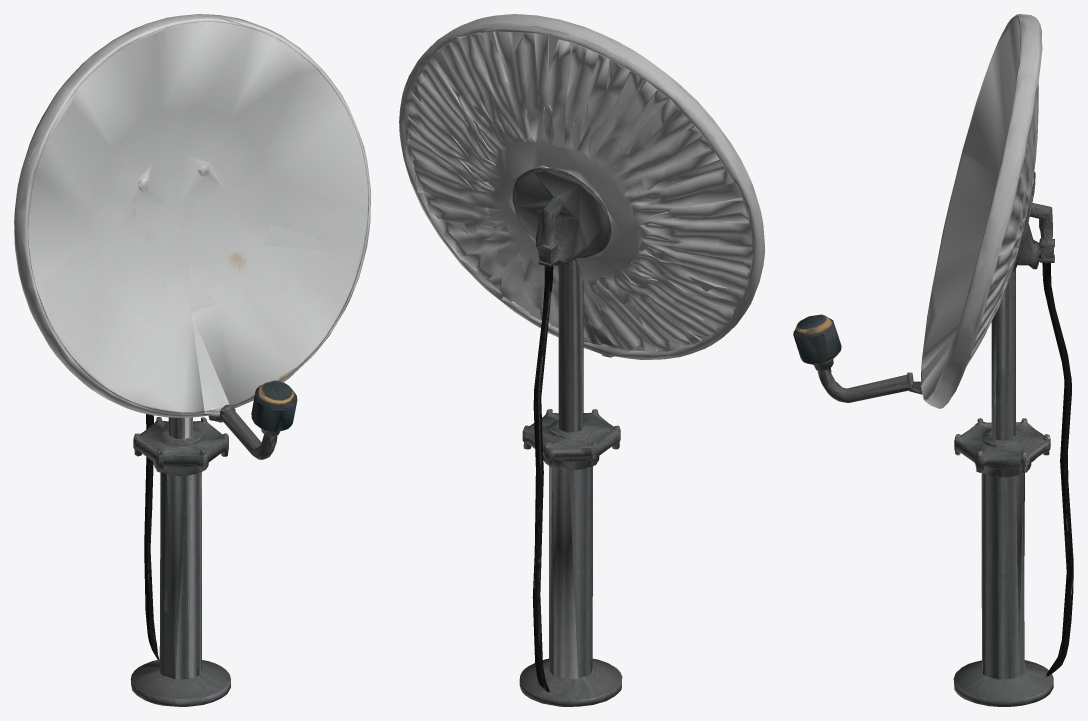
File: fv_satellite.glb
3 renders of one model, left to right at view 1: azimuth 30°, elevation 25°; view 2: azimuth 150°, elevation 25°; view 3: azimuth 270°, elevation 25°, orthographic. The views are drawn at different scales.
Parts seen in each view (by area): view 1: fv_satellite; view 2: fv_satellite; view 3: fv_satellite.
Boxes of the visible parts, box(x1,y1,x2,y2) form: fv_satellite: box(14, 14, 370, 706); fv_satellite: box(399, 14, 764, 706); fv_satellite: box(793, 14, 1073, 706).
Size of the model in its own units: 0.6659 by 1.2 by 0.4669.
1 material, 1 textured.
